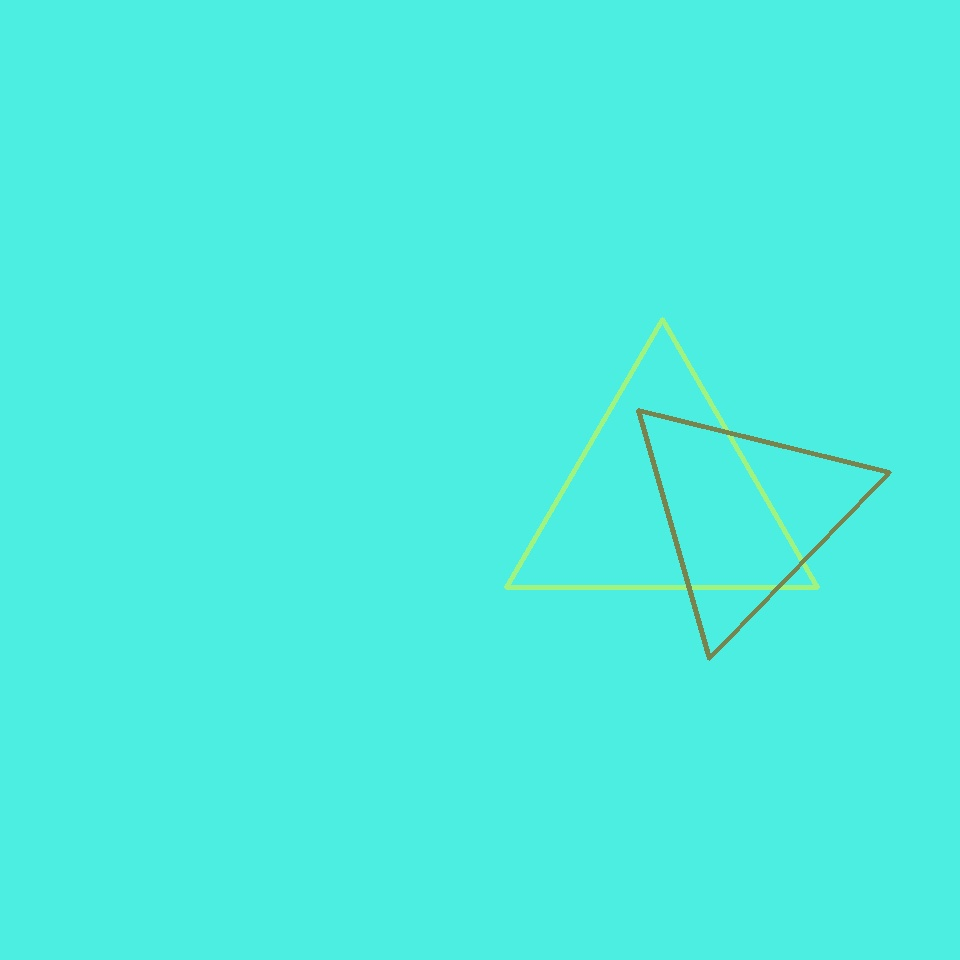circle: (506, 364, 818, 632), (620, 390, 872, 638)
